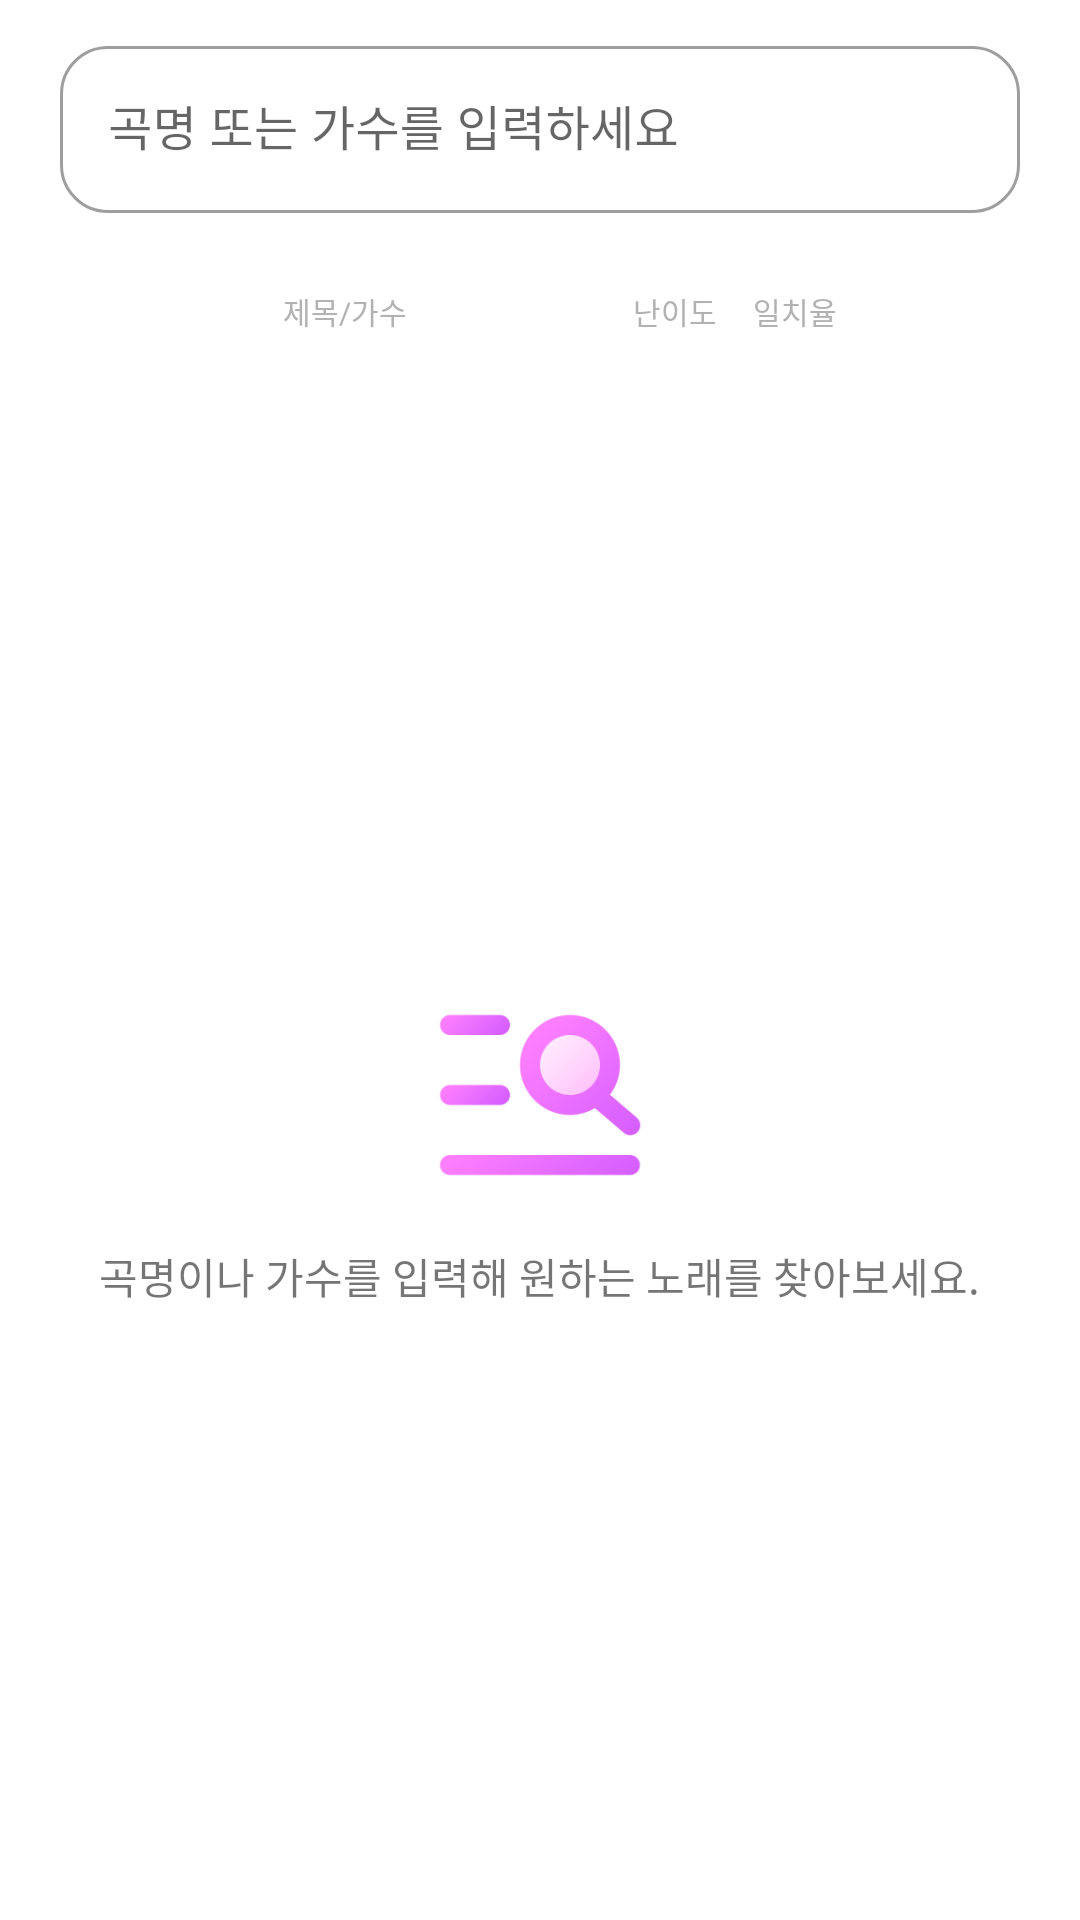

Where icons sit on this 1080x1920 app screen, as detection(x1, y1, x2, y2):
search: detection(440, 1014, 641, 1176)
